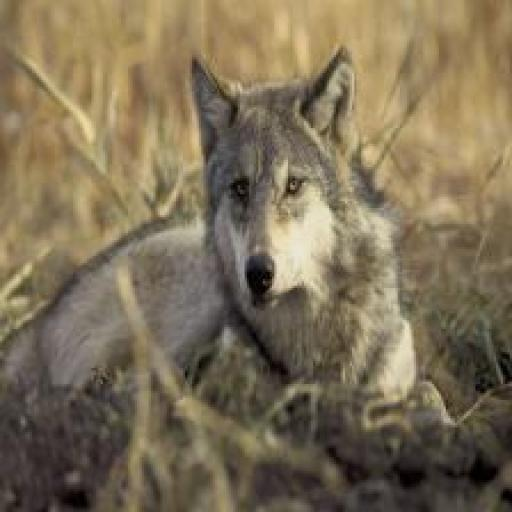wolf: (0, 31, 443, 491)
